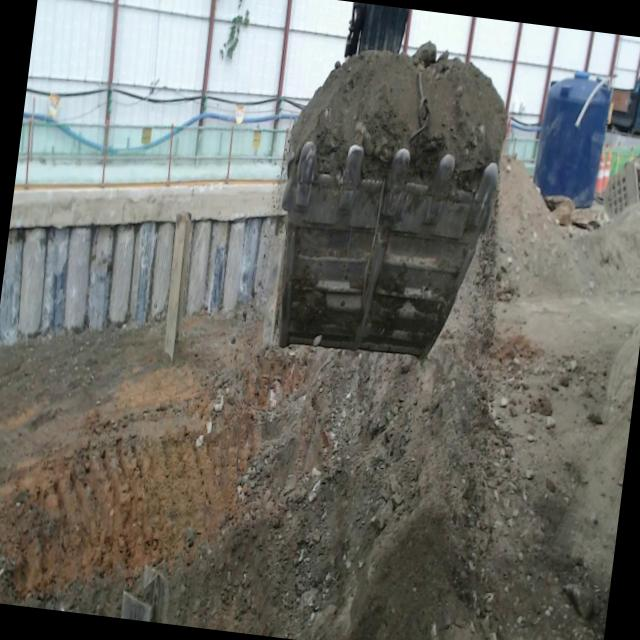white-sand: (0, 160, 640, 640), (286, 43, 506, 192)
